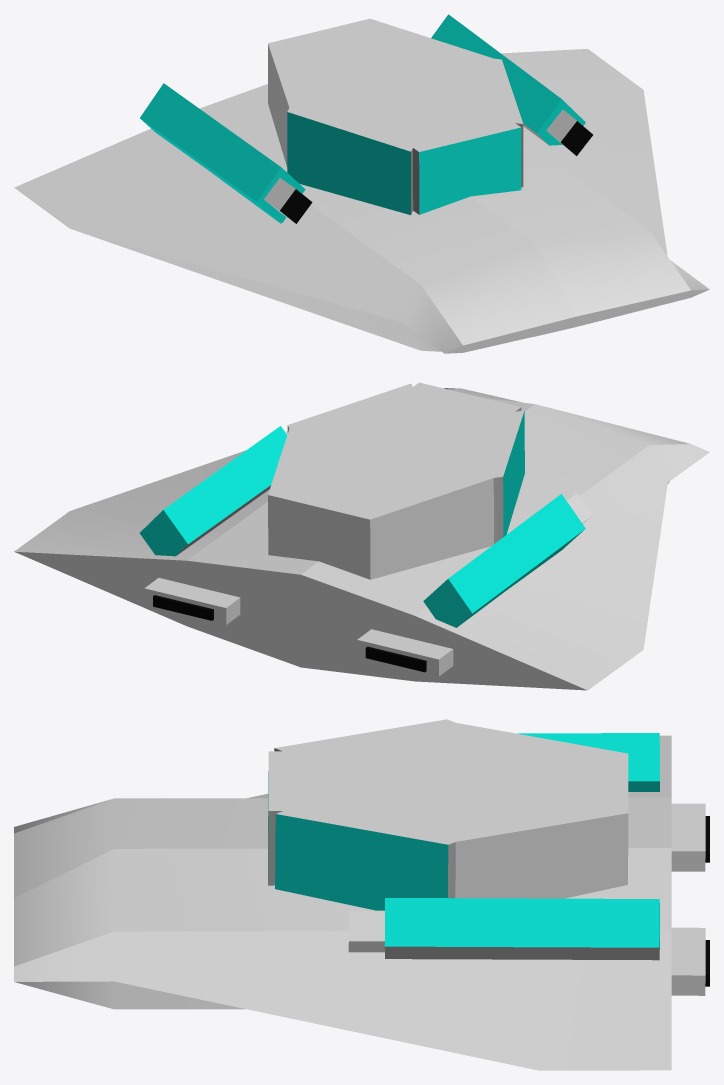
File: Lazorus_Ship_Flight.fbx
3 renders of one model, top to bottom at view 1: azimuth 30°, elevation 25°; view 2: azimuth 150°, elevation 25°; view 3: azimuth 270°, elevation 25°, orthographic. The views are drawn at different scales.
Parts seen in each view (by area): view 1: pCylinder2; view 2: pCylinder2; view 3: pCylinder2.
Boxes of the visible parts, x1,y1,x2,y2 form: pCylinder2: (14, 14, 709, 353); pCylinder2: (14, 382, 709, 690); pCylinder2: (14, 719, 709, 1070).
Size of the model in its own units: 12.96 by 3.23 by 11.44.
